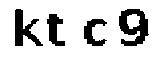9: (115, 6, 152, 51)
c: (80, 15, 108, 50)
k: (8, 6, 41, 52)
t: (45, 12, 70, 51)
